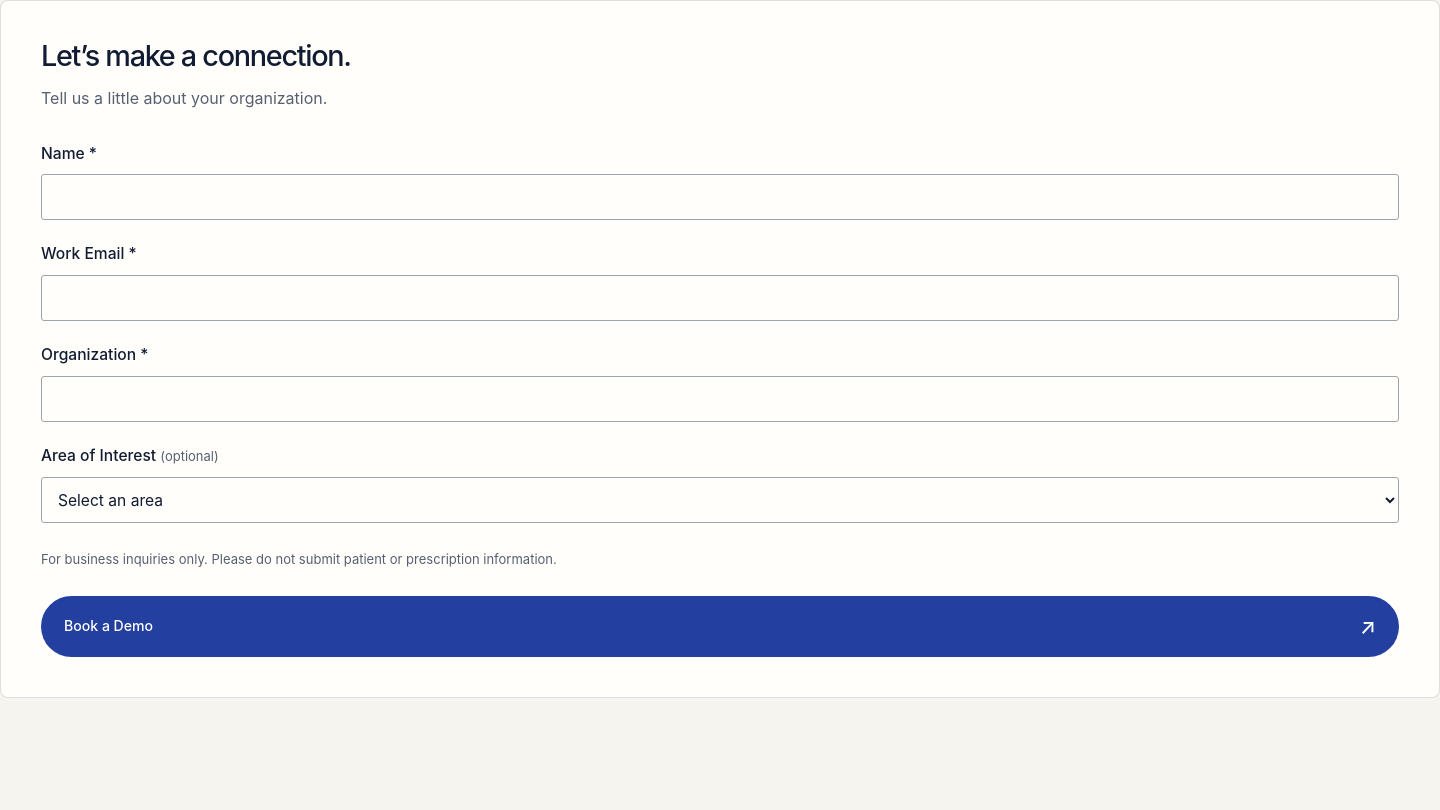
Scenario: business inquiry form › focuses the first invalid field and announces field errors
What coordinates should you click on to do the following:
click the button "Book a Demo ↗"
I would click on:
 (109, 626)
Its box is [41,596,1399,657].
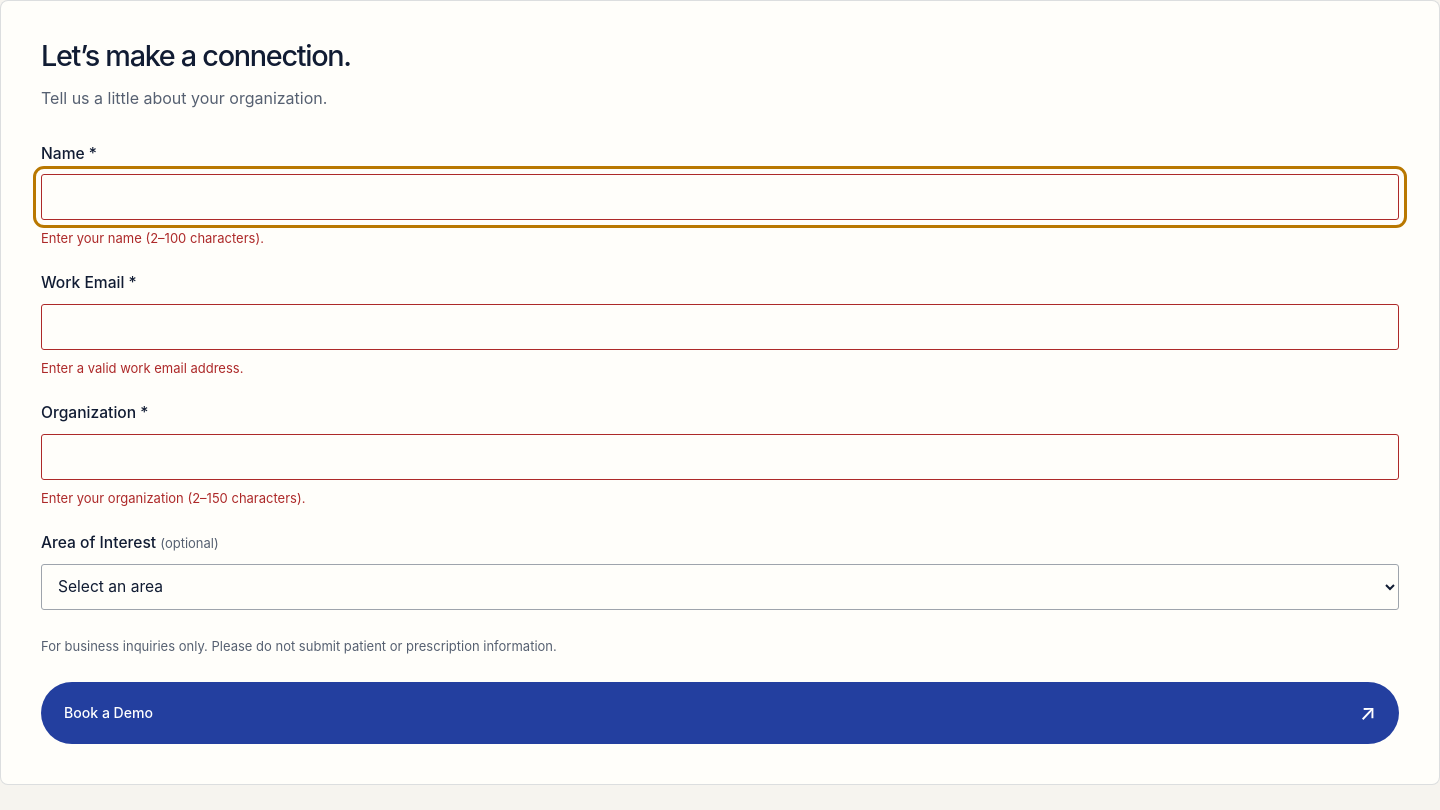
expect the text "Enter a valid work email address." is shown: met, box [41,360,243,376]
